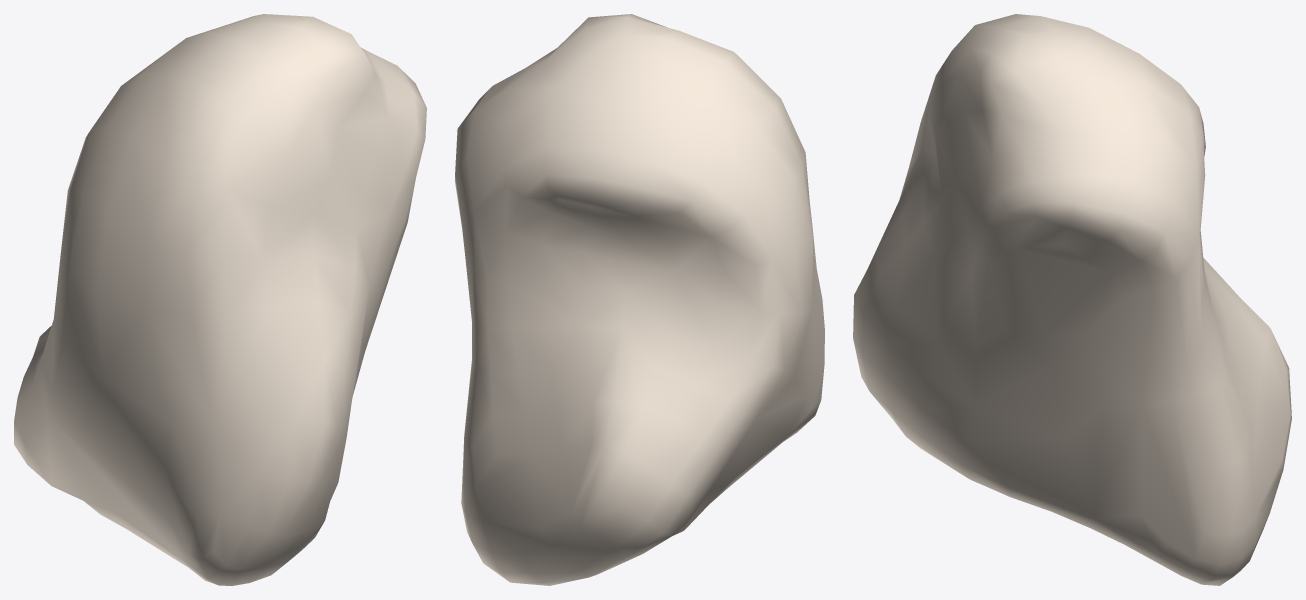
File: right_capitate.glb
3 views of the same model, side by side, from view 1: azimuth 30°, elevation 25°; view 2: azimuth 150°, elevation 25°; view 3: azimuth 270°, elevation 25° (orthographic). The views are drawn at different scales.
Parts seen in each view (by area): view 1: Capitate.r; view 2: Capitate.r; view 3: Capitate.r.
Boxes of the visible parts, x1,y1,x2,y2 form: Capitate.r: (14,14,426,585); Capitate.r: (455,14,824,585); Capitate.r: (853,14,1291,585).
Bounding box in the file's own units: 0.0163 × 0.0246 × 0.0184.
